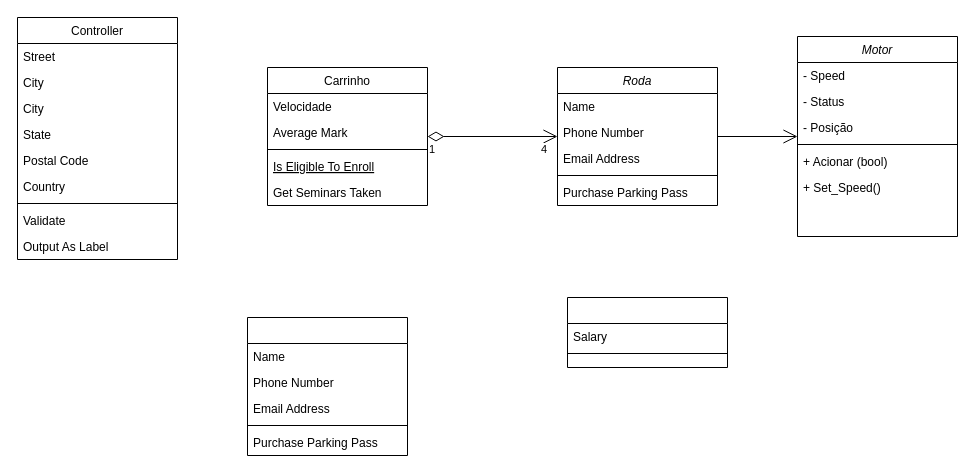
This 975x476 diagram has some shape labels left out. The box of each missing label's shape, as (x1, y1, x2, y2) in pixels:
Haste: (566, 296, 728, 368)
Sensor de Proximidade: (246, 316, 408, 456)
